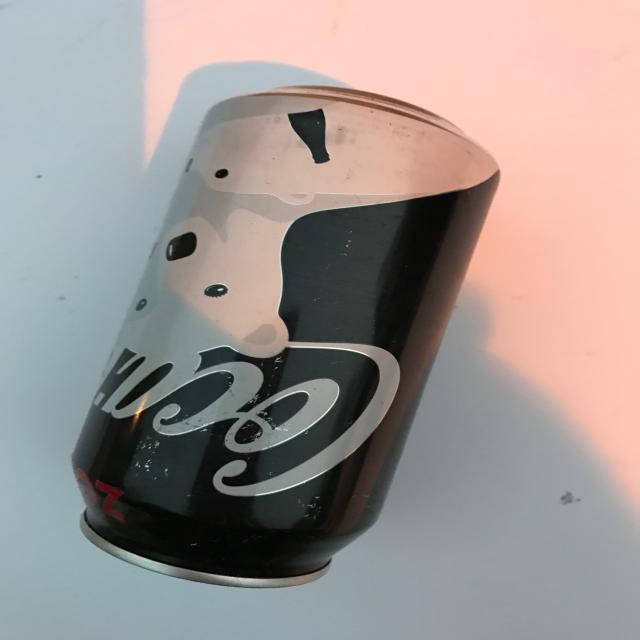metal: (69, 85, 502, 592)
